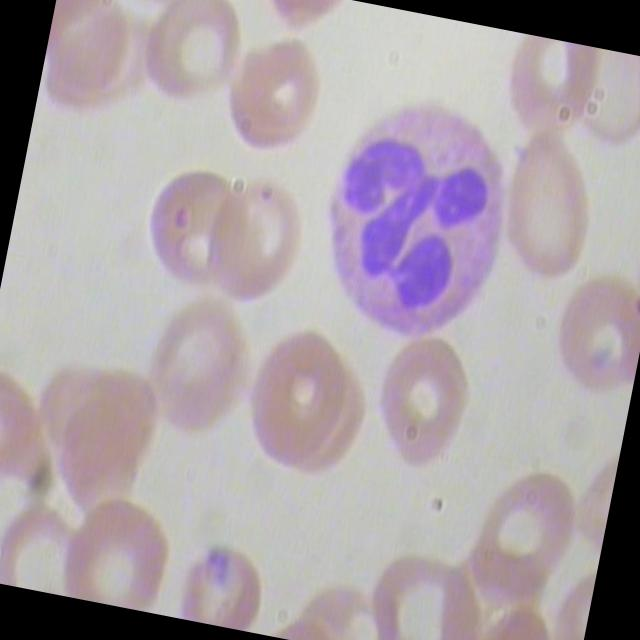RBC: (458, 454, 590, 616), (485, 121, 608, 292), (125, 150, 252, 312), (190, 170, 318, 330), (143, 283, 264, 450), (236, 326, 357, 484), (364, 328, 482, 483), (127, 0, 255, 133), (218, 24, 336, 168), (535, 268, 640, 423), (60, 490, 179, 614), (166, 534, 280, 636), (0, 496, 102, 600)
WBC: (304, 75, 535, 356)
